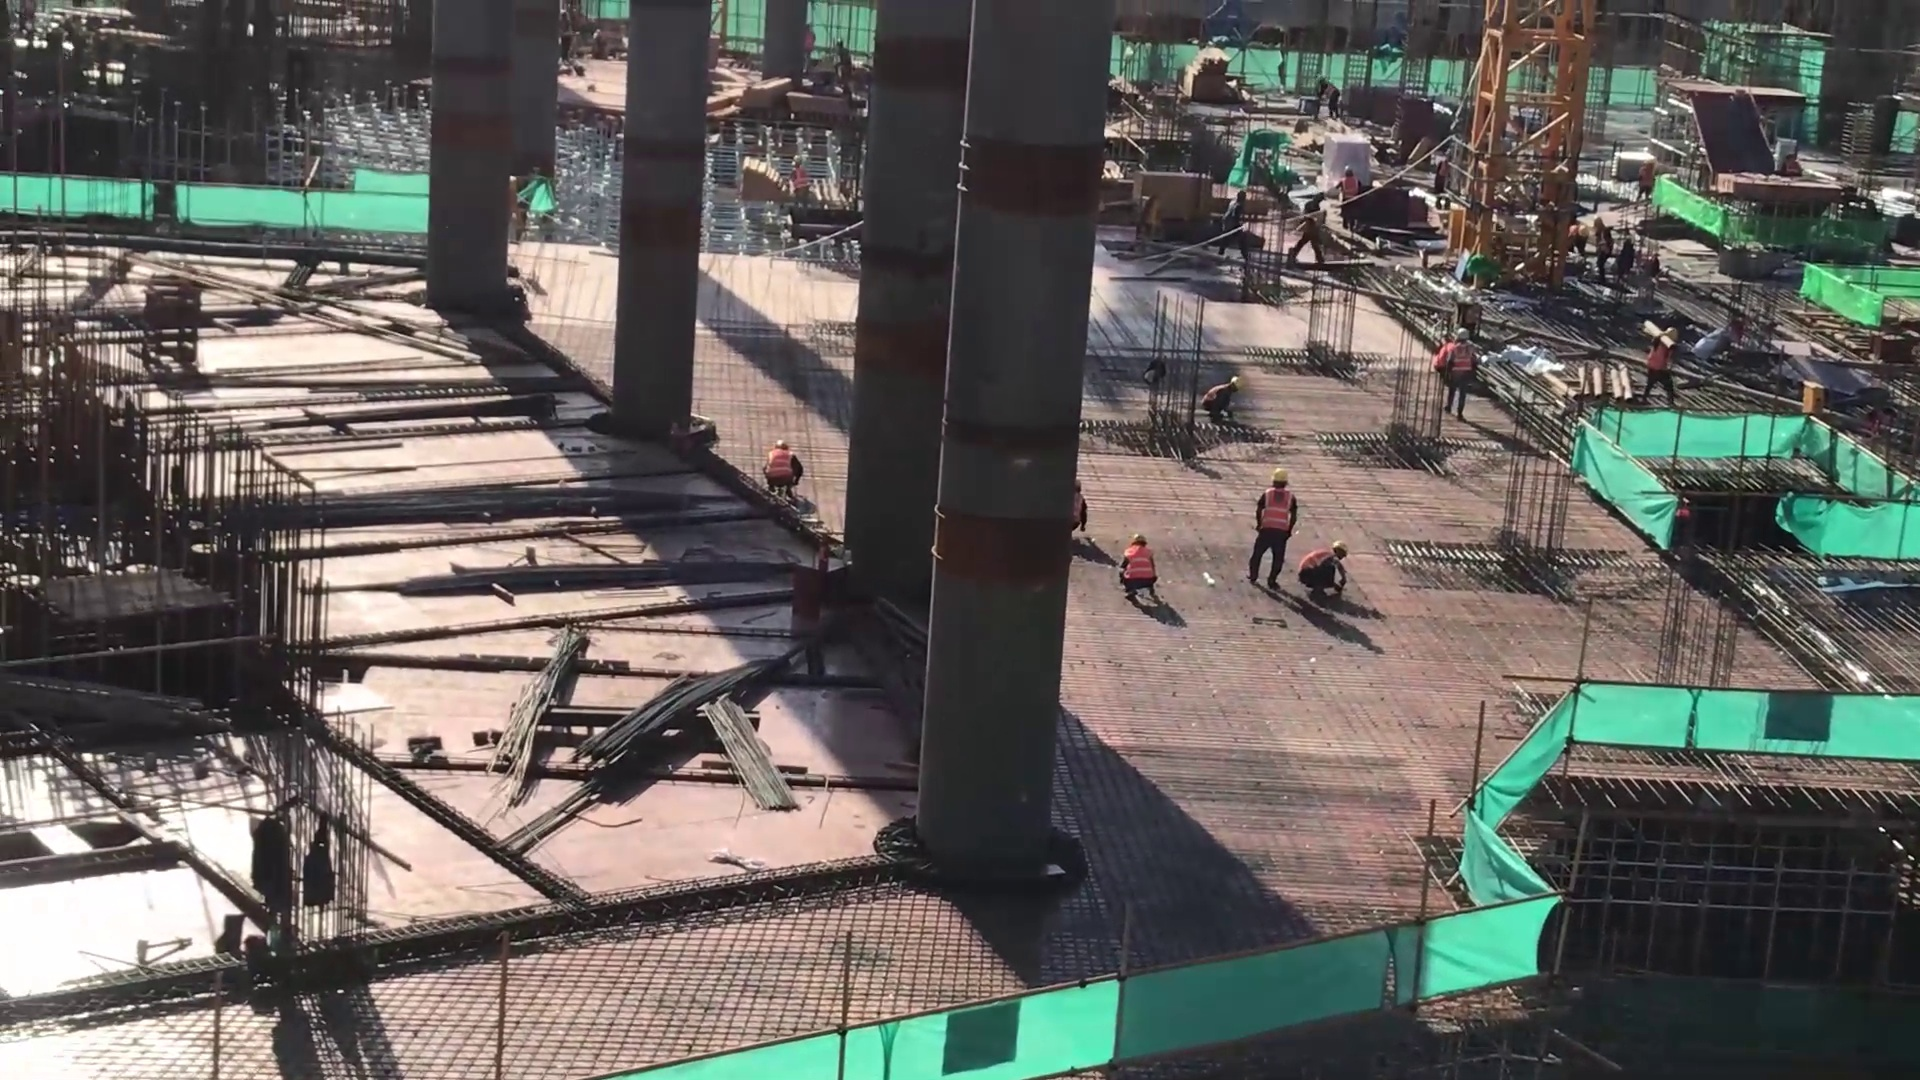helmet: (1272, 470, 1288, 482), (1132, 534, 1148, 544), (1665, 329, 1679, 341), (1332, 541, 1347, 552), (1458, 329, 1472, 340), (1229, 375, 1241, 387), (1578, 224, 1589, 236), (774, 441, 787, 450)
person: (1247, 468, 1298, 593), (1424, 316, 1478, 424), (1112, 520, 1169, 608), (1302, 529, 1348, 612), (761, 430, 808, 510), (1644, 323, 1678, 419), (1198, 372, 1254, 424), (1059, 469, 1092, 543), (1329, 168, 1362, 238), (1300, 187, 1327, 266), (1221, 191, 1249, 257), (781, 150, 812, 201), (1312, 75, 1342, 125), (1592, 215, 1613, 284), (1635, 158, 1656, 212), (1565, 217, 1588, 260)
vest: (1262, 485, 1290, 530), (1125, 546, 1156, 583), (765, 451, 797, 482), (1301, 544, 1333, 575)
